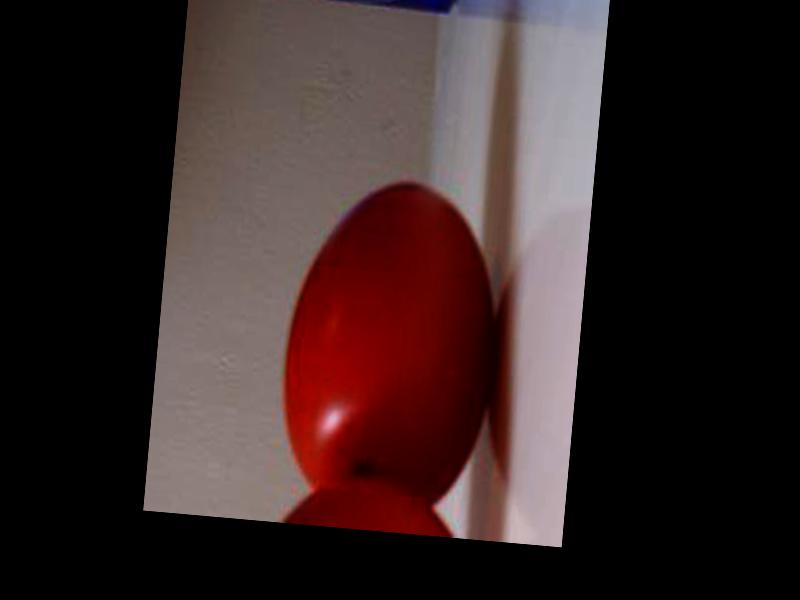Tomato: (276, 175, 509, 505)
